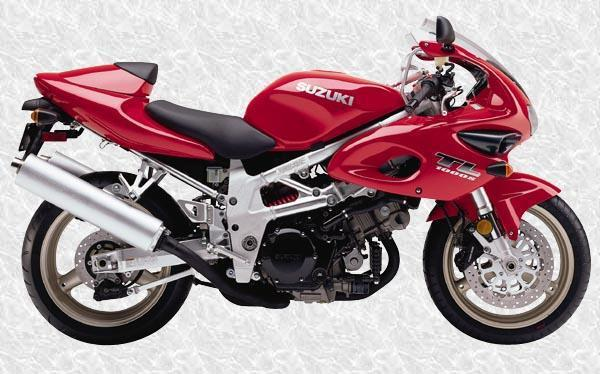motorcycle: (7, 9, 597, 357)
